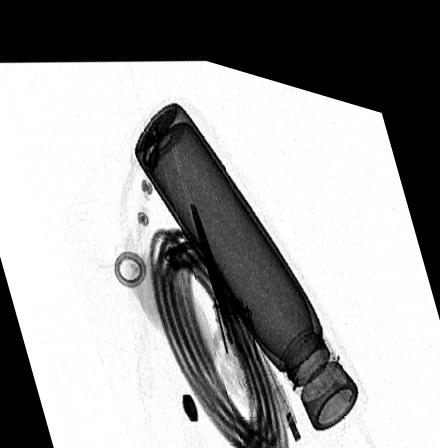Scissors: (187, 189, 267, 390)
